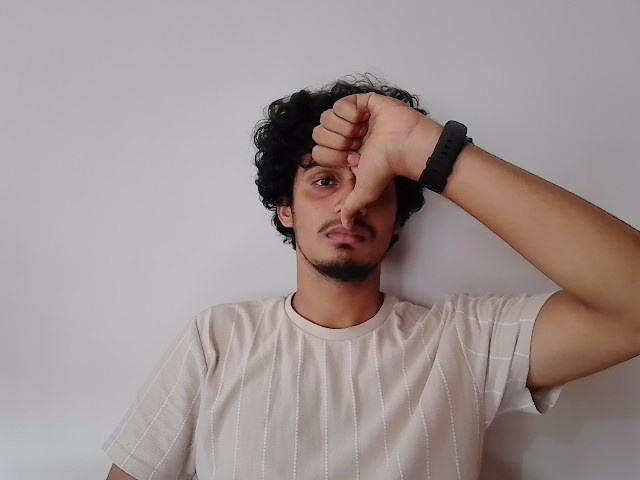drink: (275, 92, 427, 281)
